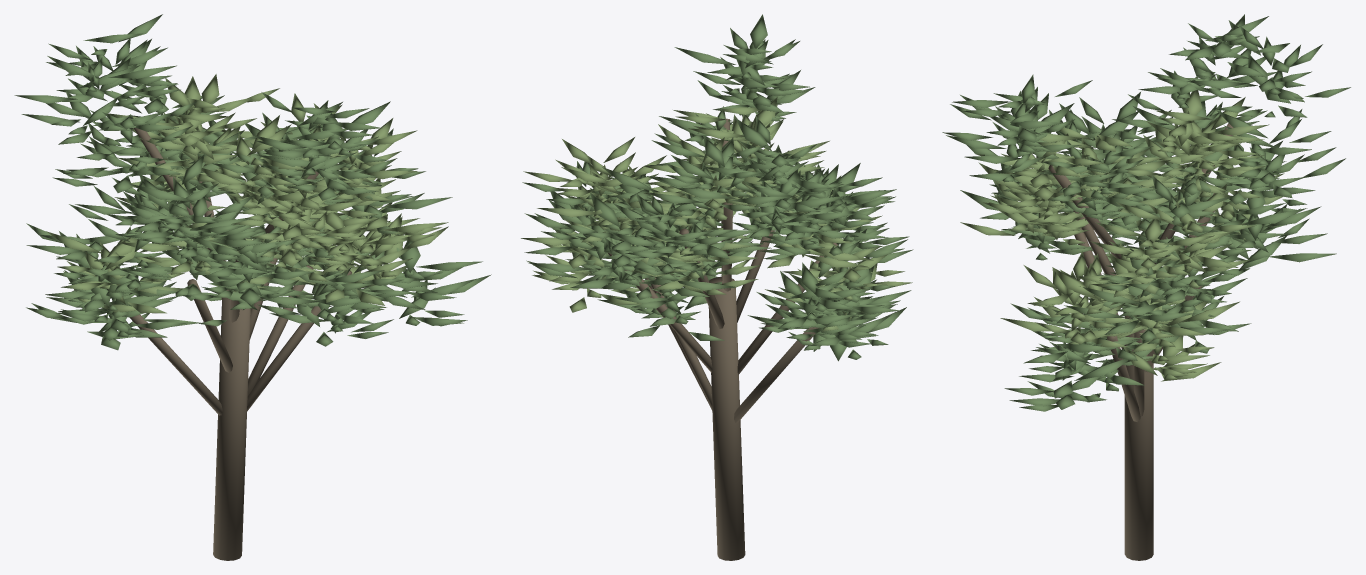
Rendered from tree.glb.
3 renders of one model, left to right at view 1: azimuth 30°, elevation 25°; view 2: azimuth 150°, elevation 25°; view 3: azimuth 270°, elevation 25°, orthographic. The views are drawn at different scales.
Parts seen in each view (by area): view 1: tree_Willow_foliage, tree_Sunlit_foliage, tree_Grey_brown_bark; view 2: tree_Willow_foliage, tree_Sunlit_foliage, tree_Grey_brown_bark; view 3: tree_Willow_foliage, tree_Sunlit_foliage, tree_Grey_brown_bark.
Part boxes in pixels (box(x1,y1,x2,y2)): tree_Willow_foliage: box(14, 14, 491, 350); tree_Sunlit_foliage: box(46, 74, 448, 313); tree_Grey_brown_bark: box(129, 128, 351, 560); tree_Willow_foliage: box(522, 14, 913, 361); tree_Sunlit_foliage: box(521, 97, 912, 331); tree_Grey_brown_bark: box(607, 118, 839, 560); tree_Willow_foliage: box(942, 14, 1350, 411); tree_Sunlit_foliage: box(960, 90, 1287, 381); tree_Grey_brown_bark: box(1048, 123, 1233, 560).
Size of the model in its own units: 3.26 by 3.71 by 2.82.
